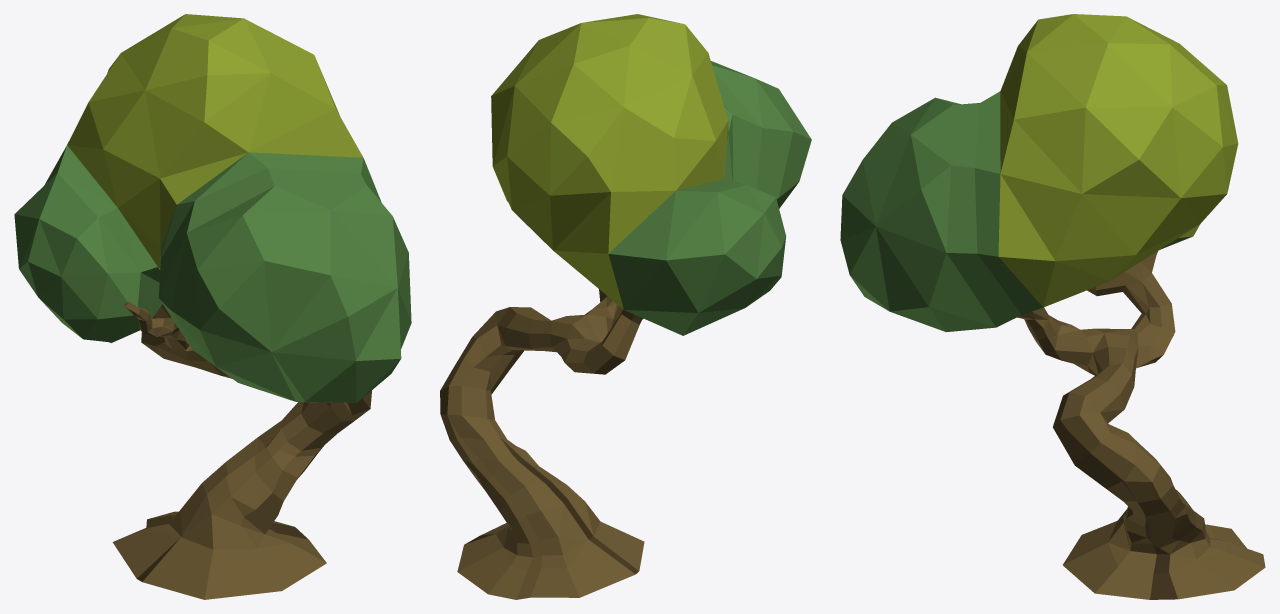
File: meadow-tree-c.glb
3 renders of one model, left to right at view 1: azimuth 30°, elevation 25°; view 2: azimuth 150°, elevation 25°; view 3: azimuth 270°, elevation 25°, orthographic. The views are drawn at different scales.
Parts seen in each view (by area): view 1: EM_Tree3a; view 2: EM_Tree3a; view 3: EM_Tree3a.
Boxes of the visible parts, box(x1,y1,x2,y2) form: EM_Tree3a: box(14, 14, 411, 599); EM_Tree3a: box(440, 14, 811, 599); EM_Tree3a: box(840, 14, 1265, 599).
Bounding box in the file's own units: 5.72 × 8.94 × 6.59.
1 material, 1 textured.
